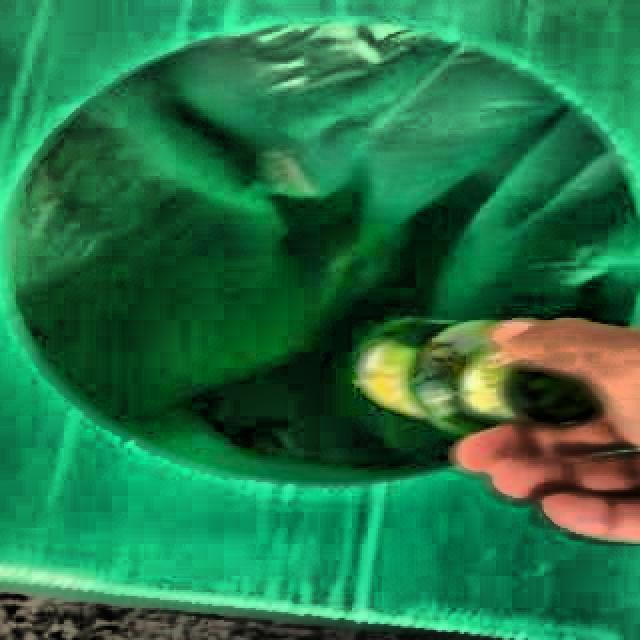glass: (355, 322, 600, 435)
